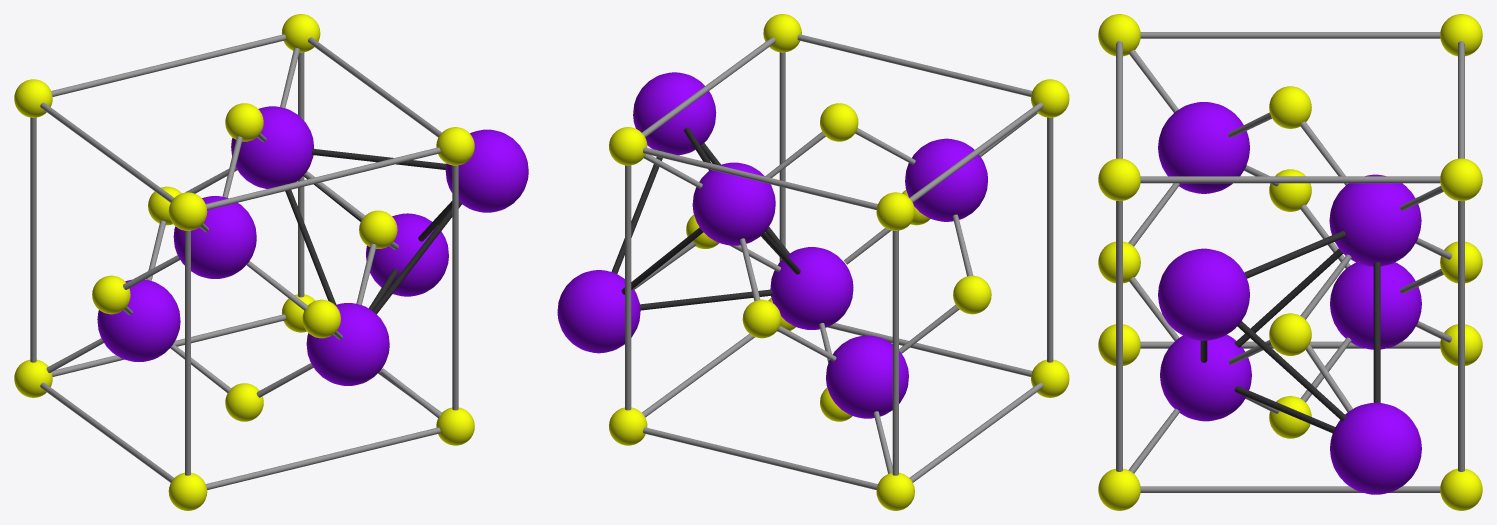
File: lizi4-3.fbx
3 views of the same model, side by side, from view 1: azimuth 30°, elevation 25°; view 2: azimuth 150°, elevation 25°; view 3: azimuth 270°, elevation 25° (orthographic). The views are drawn at different scales.
Visible parts, largest first — view 1: zns_qiugun, Sphere002, Sphere005, Sphere006, Sphere003, Sphere004, Sphere001, Sphere016, Sphere012, Sphere013, Sphere007, Sphere020 (+12 smaller); view 2: zns_qiugun, Sphere005, Sphere003, Sphere001, Sphere006, Sphere004, Sphere002, Sphere011, Sphere015, Sphere019, Sphere020, Sphere010 (+8 smaller); view 3: zns_qiugun, Sphere002, Sphere001, Sphere003, Sphere004, Sphere005, Sphere006, Sphere013, Sphere014, Sphere018, Sphere020, Sphere008 (+16 smaller).
Part boxes in pixels (x1,y1,x2,y2): zns_qiugun: (30, 34, 458, 490); Sphere002: (445, 129, 528, 212); Sphere005: (306, 303, 389, 385); Sphere006: (97, 279, 180, 361); Sphere003: (231, 106, 314, 188); Sphere004: (173, 196, 256, 278); Sphere001: (366, 213, 448, 296); Sphere016: (302, 299, 340, 338); Sphere012: (168, 192, 207, 230); Sphere013: (436, 127, 474, 165); Sphere007: (168, 472, 207, 510); Sphere020: (225, 103, 263, 141); zns_qiugun: (625, 34, 1053, 489); Sphere005: (770, 247, 853, 329); Sphere003: (692, 162, 775, 245); Sphere001: (557, 270, 640, 353); Sphere006: (826, 335, 908, 418); Sphere004: (905, 138, 987, 221); Sphere002: (633, 72, 716, 155); Sphere011: (876, 192, 914, 230); Sphere015: (742, 299, 781, 338); Sphere019: (953, 275, 991, 314); Sphere020: (820, 103, 858, 141); Sphere010: (876, 472, 914, 510); zns_qiugun: (1116, 32, 1464, 492); Sphere002: (1158, 248, 1249, 340); Sphere001: (1330, 402, 1421, 494); Sphere003: (1329, 174, 1421, 266); Sphere004: (1158, 102, 1249, 193); Sphere005: (1160, 334, 1251, 421); Sphere006: (1330, 262, 1421, 349); Sphere013: (1098, 158, 1140, 201); Sphere014: (1440, 158, 1482, 201); Sphere018: (1269, 313, 1311, 355); Sphere020: (1269, 86, 1311, 128); Sphere008: (1098, 468, 1140, 510).
Size of the model in its own units: 42.39 by 32.7 by 32.7.
